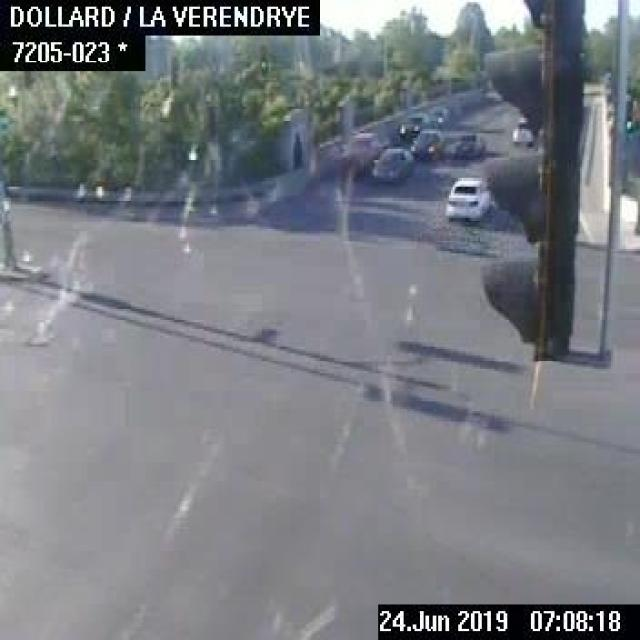vehicle: (443, 174, 492, 222), (342, 131, 384, 172), (372, 145, 414, 183), (410, 126, 444, 163), (507, 114, 535, 144), (451, 131, 484, 156), (397, 110, 425, 137), (424, 102, 449, 128)
